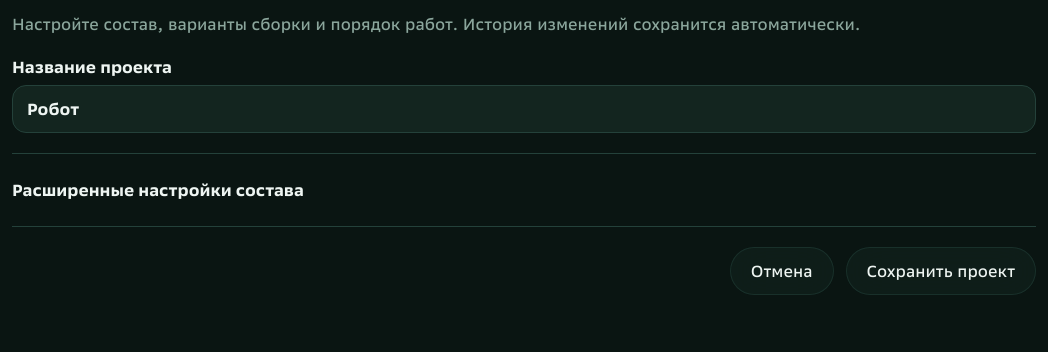
Test case: ProjectManifestEditor › сохраняет неизвестные x-* поля и исходную версию при правке известного имени
Replace the text in the field labelled "Название проекта" with "Манипулятор" at coordinates (524, 109), box [12,85,1036,133]
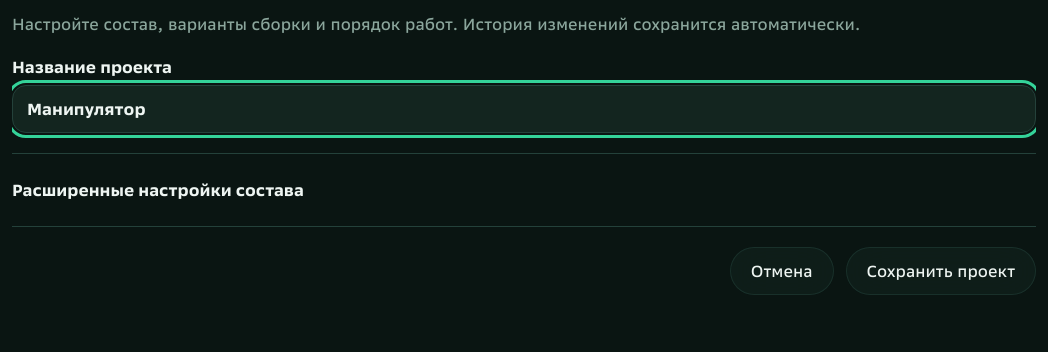
Click the button "Сохранить проект".
click(941, 271)  # box [846,247,1036,295]
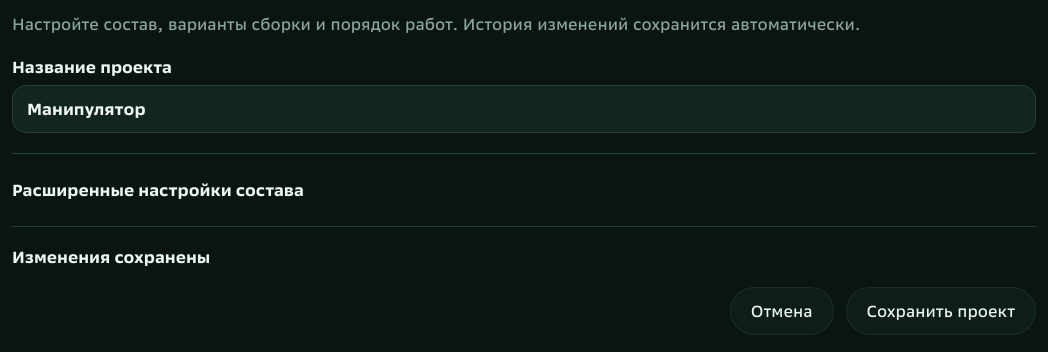
expect the message reads "Изменения сохранены": met, box [12,247,210,267]
